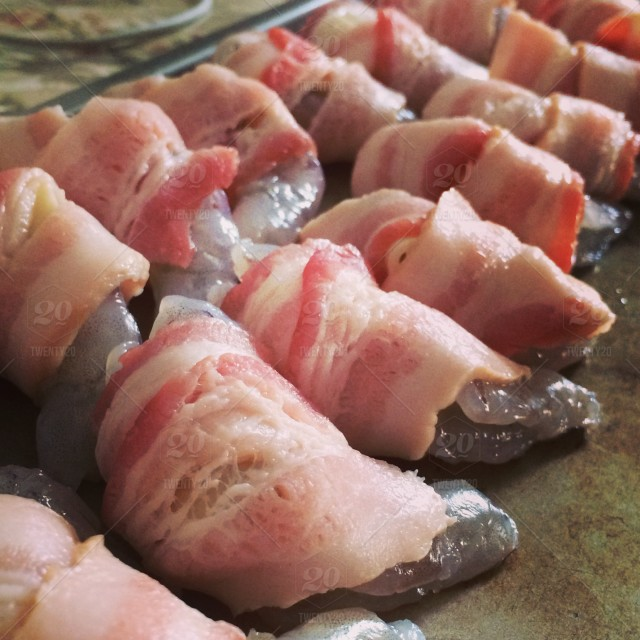bacon: (115, 320, 466, 599), (348, 161, 606, 360), (55, 90, 267, 314), (222, 251, 453, 444), (349, 92, 538, 225)
